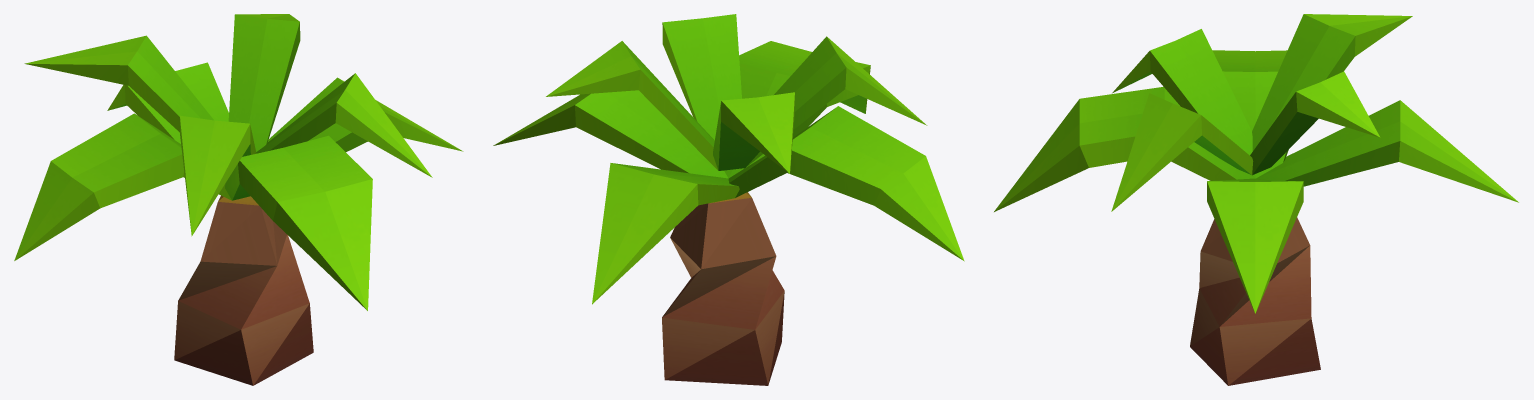
File: GL-Palmtree-06-LOD3.fbx
3 views of the same model, side by side, from view 1: azimuth 30°, elevation 25°; view 2: azimuth 150°, elevation 25°; view 3: azimuth 270°, elevation 25° (orthographic). The views are drawn at different scales.
Visible parts, largest first — view 1: GL_Palmtree_06; view 2: GL_Palmtree_06; view 3: GL_Palmtree_06.
Part boxes in pixels (left/top/right/bottom): GL_Palmtree_06: left=14, top=14, right=463, bottom=385; GL_Palmtree_06: left=493, top=14, right=964, bottom=385; GL_Palmtree_06: left=994, top=14, right=1518, bottom=385.
Size of the model in its own units: 2.46 by 1.59 by 2.47.
